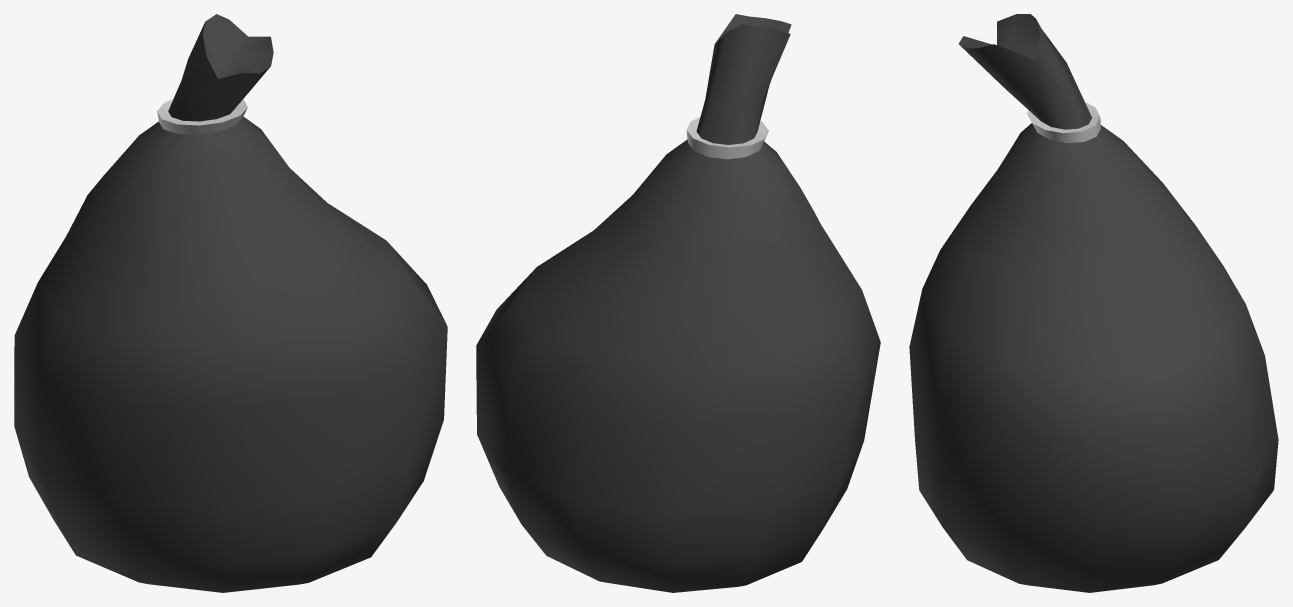
The model's file is SM_Garbagebag_Small.fbx.
3 renders of one model, left to right at view 1: azimuth 30°, elevation 25°; view 2: azimuth 150°, elevation 25°; view 3: azimuth 270°, elevation 25°, orthographic. The views are drawn at different scales.
Visible parts, largest first — view 1: GarbageBag_Small; view 2: GarbageBag_Small; view 3: GarbageBag_Small.
Part boxes in pixels (x1=…): GarbageBag_Small: x1=14, y1=14, x2=447, y2=592; GarbageBag_Small: x1=476, y1=14, x2=880, y2=592; GarbageBag_Small: x1=909, y1=14, x2=1278, y2=592.
Size of the model in its own units: 11.79 by 15.95 by 10.57.
